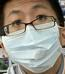with_mask: (1, 2, 65, 74)
